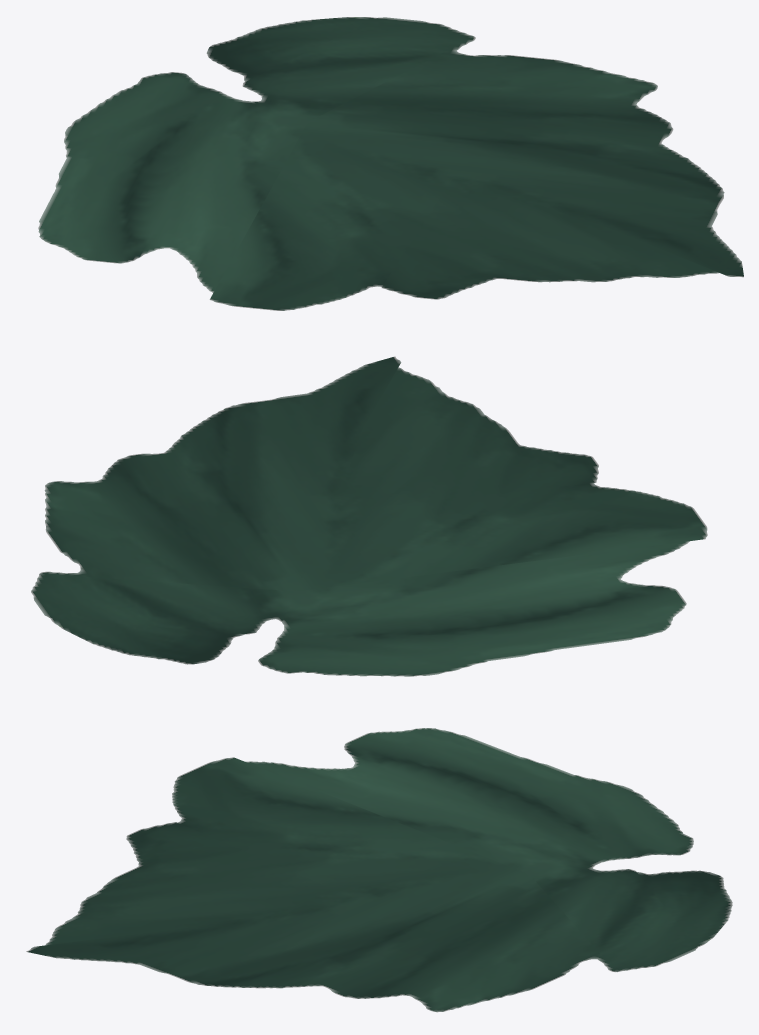
File: SM_PumpkinGreen_01.fbx
3 renders of one model, top to bottom at view 1: azimuth 30°, elevation 25°; view 2: azimuth 150°, elevation 25°; view 3: azimuth 270°, elevation 25°, orthographic. The views are drawn at different scales.
Visible parts, largest first — view 1: Cylinder.003; view 2: Cylinder.003; view 3: Cylinder.003.
Part boxes in pixels (x1,y1,x2,y2): Cylinder.003: (38,17,743,310); Cylinder.003: (31,356,707,676); Cylinder.003: (26,728,732,1012).
Size of the model in its own units: 88.05 by 0 by 87.75.
